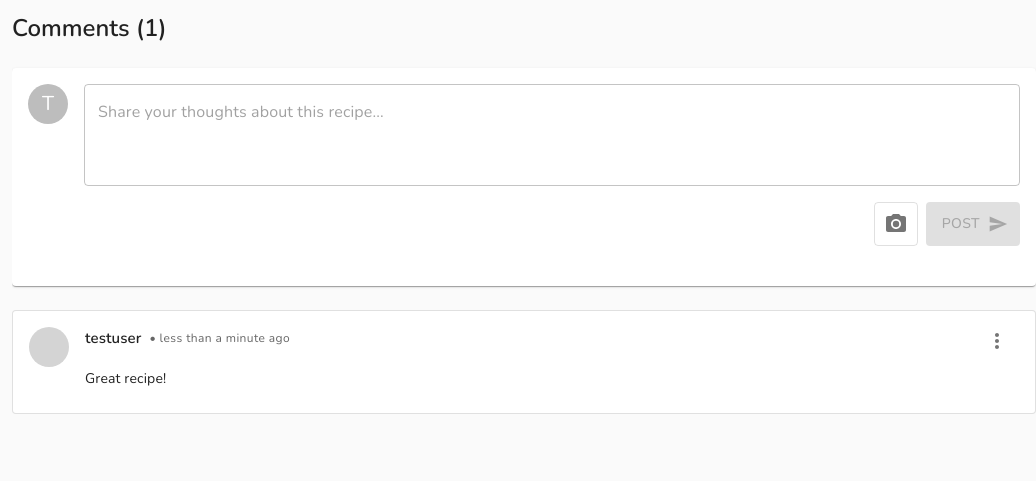
it: CommentsSection Component › Edit and Delete Comments › should open menu and show edit and delete options when clicking more button
Expected: the text "Great recipe!" is shown, 85,369 -> 166,388
Click the button without text in the row of "less than a minute ago". click: (997, 341)
box: 975,319 -> 1019,363
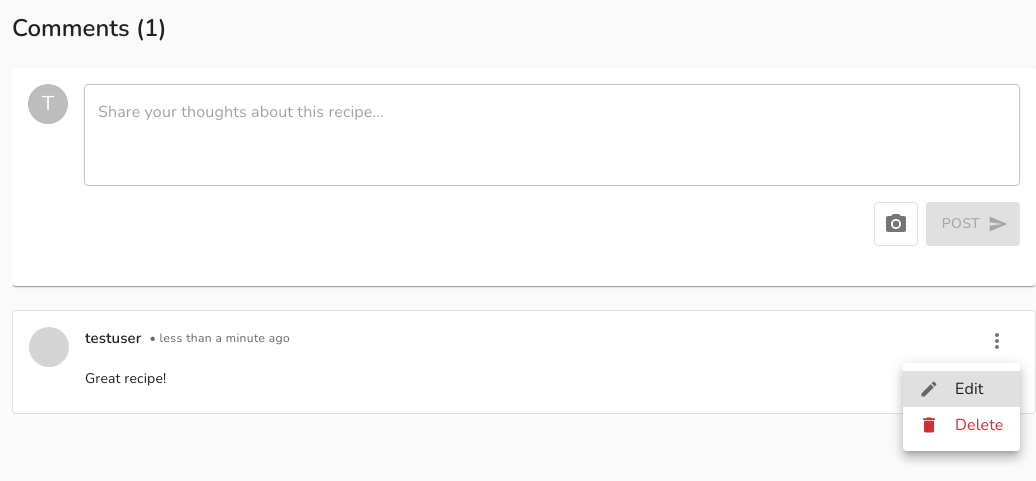
Expected: the menu item "Edit" is shown, 903,371 -> 1020,407
